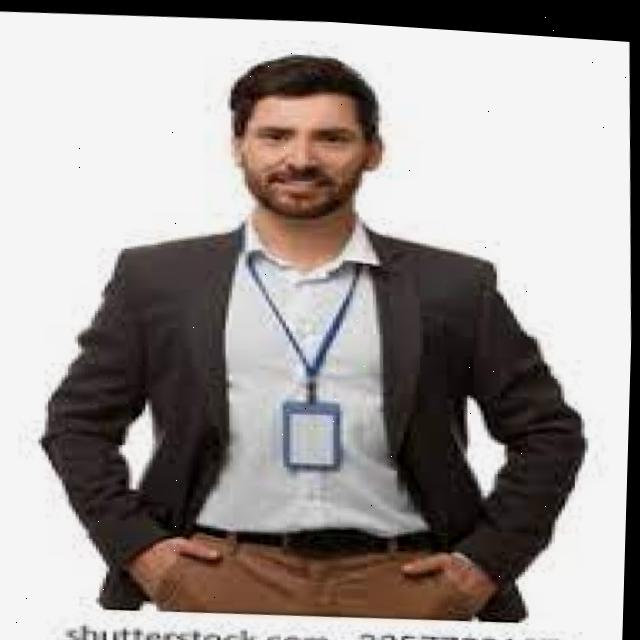id_card: (231, 237, 383, 475)
